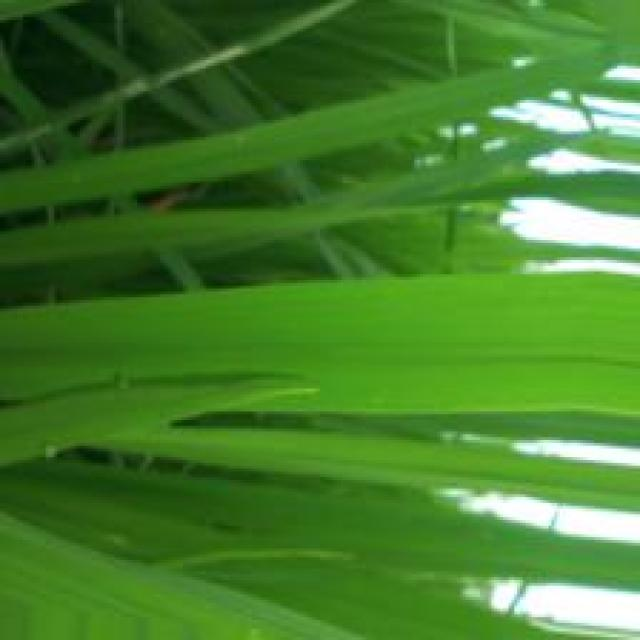HealthyLeaf: (0, 274, 640, 417)
